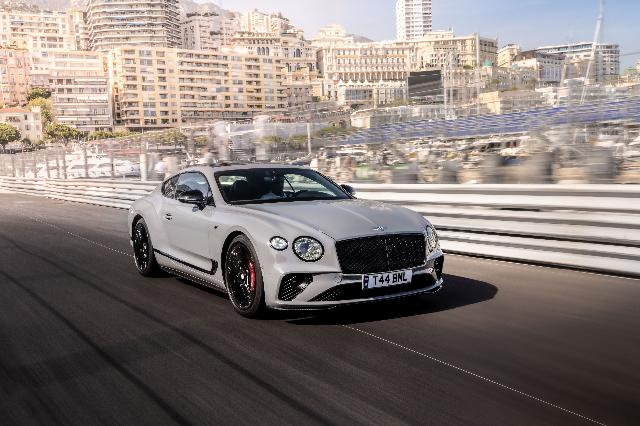bentley: (127, 163, 445, 318)
